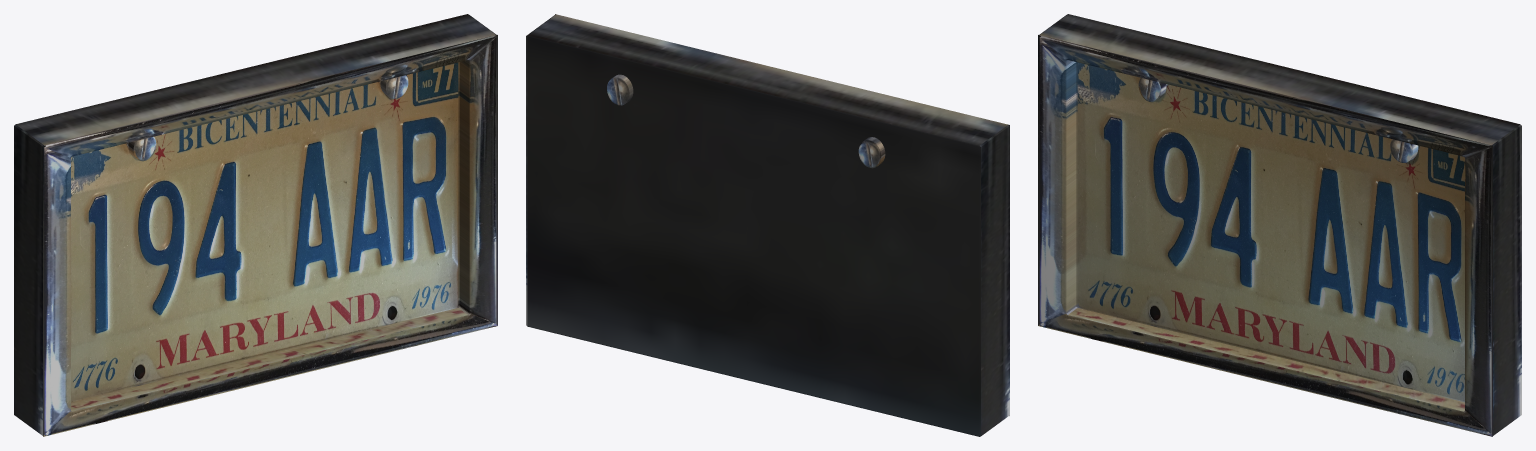
The model's file is licenseplate.glb.
3 views of the same model, side by side, from view 1: azimuth 30°, elevation 25°; view 2: azimuth 150°, elevation 25°; view 3: azimuth 330°, elevation 25° (orthographic).
Parts seen in each view (by area): view 1: Cube; view 2: Cube; view 3: Cube.
Boxes of the visible parts, box(x1,y1,x2,y2) form: Cube: box(14, 14, 497, 436); Cube: box(526, 14, 1009, 436); Cube: box(1038, 14, 1521, 436).
Bounding box in the file's own units: 59.72 × 36.53 × 7.53.
Materials: 1 (1 with a texture image).
